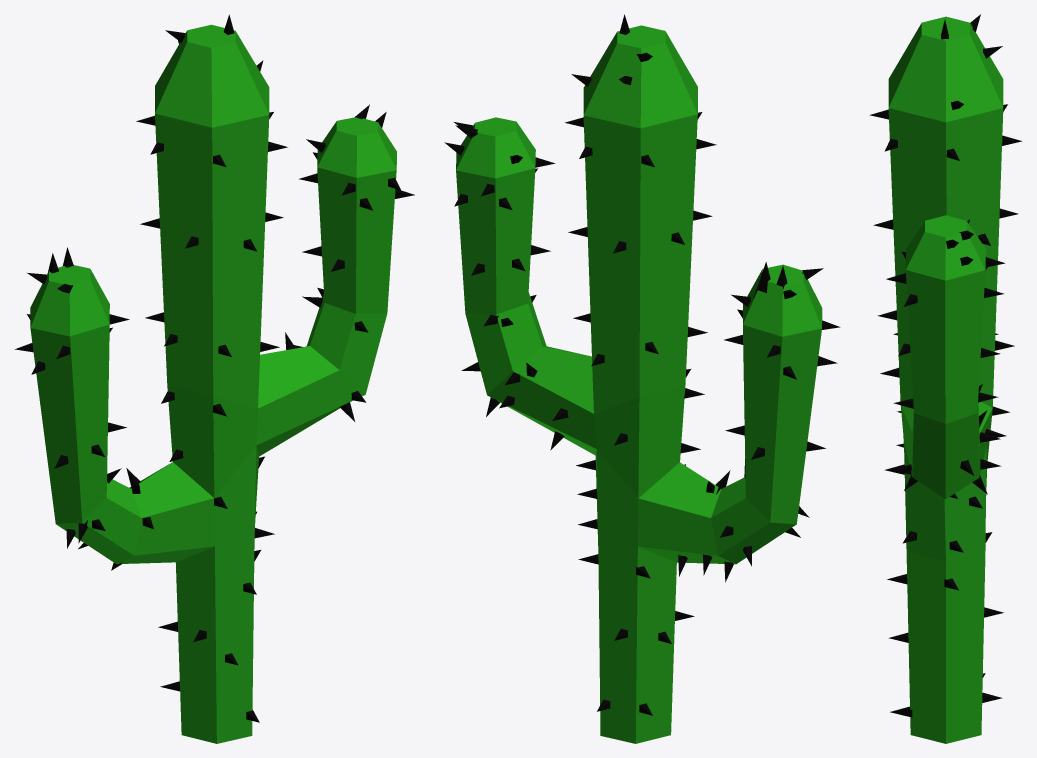
Rendered from Сactus.fbx.
3 views of the same model, side by side, from view 1: azimuth 30°, elevation 25°; view 2: azimuth 150°, elevation 25°; view 3: azimuth 270°, elevation 25° (orthographic).
Parts seen in each view (by area): view 1: Cactus; view 2: Cactus; view 3: Cactus.
Part boxes in pixels (x1=…): Cactus: x1=15, y1=14, x2=414, y2=743; Cactus: x1=444, y1=14, x2=840, y2=743; Cactus: x1=869, y1=14, x2=1021, y2=743.
Bounding box in the file's own units: 1.8 × 3.27 × 0.6375.
